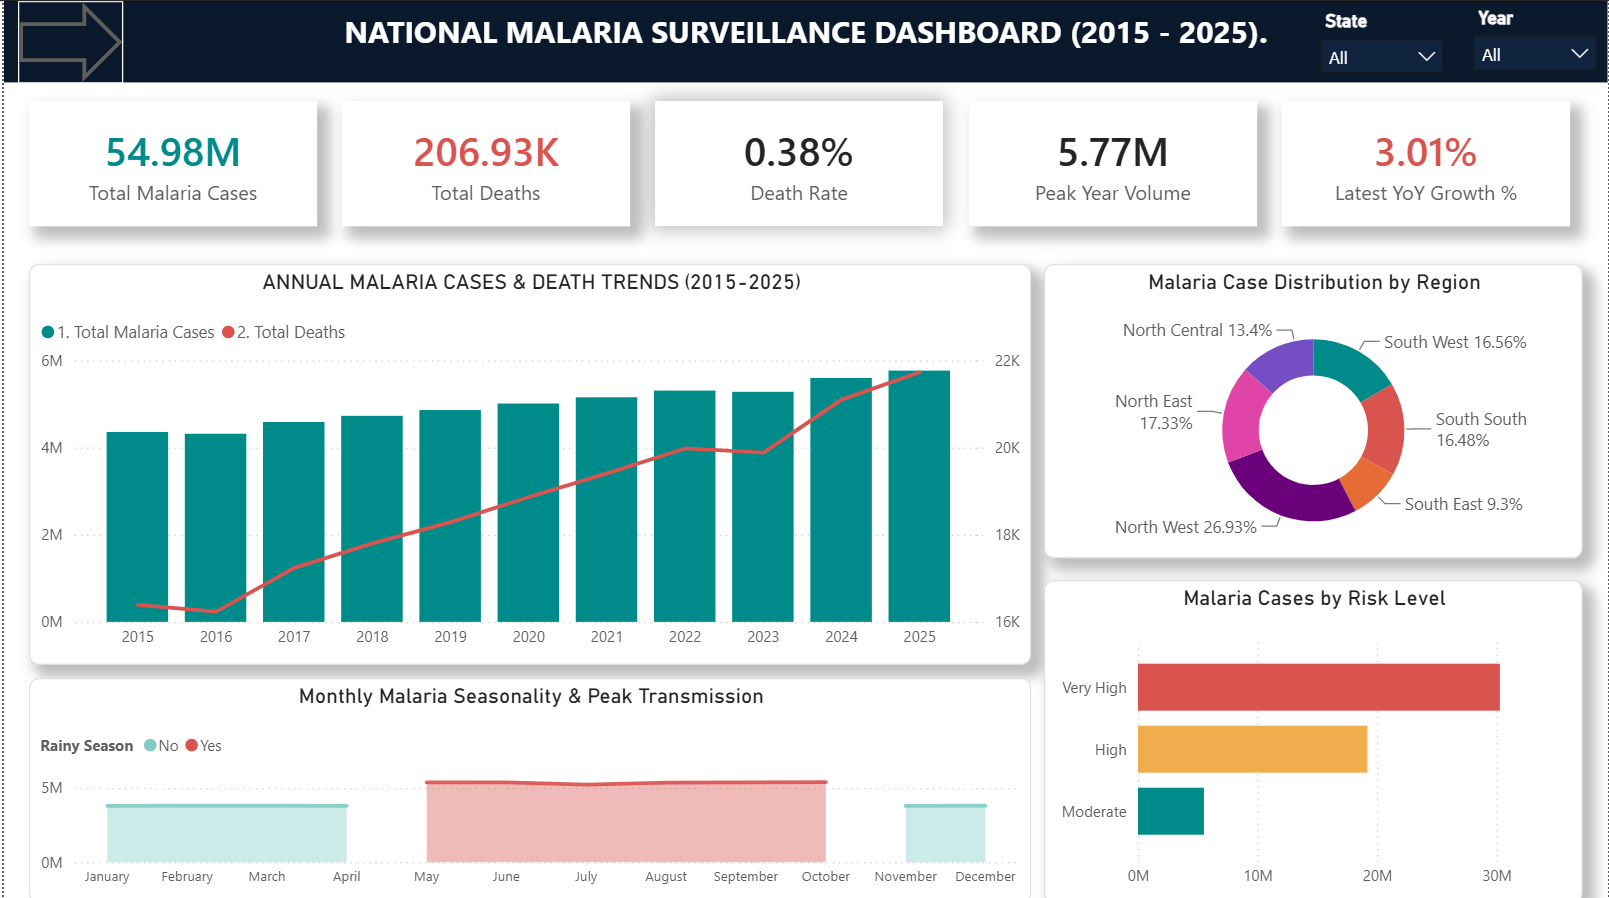

The dashboard page shown, as its layout file describes it:
{"tool":"powerbi","page":{"name":"Executive Summary","canvas":[1280,720],"ordinal":1},"visuals":[{"type":"shape","box":[0,0,1280,65],"z":0},{"type":"textbox","box":[0,2,1280,65],"z":1000},{"type":"slicer","fields":{"Values":["Dim_State.State"]},"box":[1041.9,2.3,116.5,62.7],"z":2000},{"type":"cardVisual","fields":{"Data":["Fact_Malaria.1. Total Malaria Cases"]},"box":[20,80,230,100],"z":3000},{"type":"cardVisual","fields":{"Data":["Fact_Malaria.2. Total Deaths"]},"box":[270,80,230,100],"z":4000},{"type":"cardVisual","fields":{"Data":["Fact_Malaria.4. Death Rate"]},"box":[520,80,230,100],"z":5000},{"type":"cardVisual","fields":{"Data":["Fact_Malaria.7. Peak Year Volume"]},"box":[770,80,230,100],"z":6000},{"type":"cardVisual","fields":{"Data":["Time Intelligence.Latest Year YoY Growth %"]},"box":[1020,80,230,100],"z":7000},{"type":"slicer","fields":{"Values":["Dim_Calendar.Year"]},"box":[1163.5,0,116.5,62.7],"z":8000},{"type":"lineClusteredColumnComboChart","title":"ANNUAL MALARIA CASES & DEATH TRENDS (2015-2025)","fields":{"Category":["Dim_Calendar.Year"],"Y":["Fact_Malaria.1. Total Malaria Cases"],"Y2":["Fact_Malaria.2. Total Deaths"]},"box":[20,210,800,320],"z":9000},{"type":"donutChart","title":"Malaria Case Distribution by Region","fields":{"Category":["Dim_State.Region"],"Y":["Fact_Malaria.1. Total Malaria Cases"]},"box":[830,210,430,235.5],"z":10000},{"type":"stackedAreaChart","title":"Monthly Malaria Seasonality & Peak Transmission","fields":{"Category":["Dim_Calendar.Month"],"Series":["Dim_Calendar.Rainy Season"],"Y":["Fact_Malaria.1. Total Malaria Cases"]},"box":[20,540,800,180],"z":11000},{"type":"barChart","title":"Malaria Cases by Risk Level","fields":{"Category":["Fact_Malaria.Risk Level"],"Y":["Fact_Malaria.1. Total Malaria Cases"]},"box":[830,461.8,430,258.2],"z":12000},{"type":"actionButton","box":[11.2,0,84.3,65.7],"z":13000}]}

Visuals, with their boxes in screenshot pixels (x1, y1, x2, y2), scaled from the page's 1280x720 canvas onto the 1609x898 screenshot:
shape: bbox=(0, 0, 1608, 81)
textbox: bbox=(0, 2, 1608, 84)
slicer - Dim_State.State: bbox=(1310, 3, 1456, 81)
cardVisual - Fact_Malaria.1. Total Malaria Cases: bbox=(25, 100, 314, 224)
cardVisual - Fact_Malaria.2. Total Deaths: bbox=(339, 100, 629, 224)
cardVisual - Fact_Malaria.4. Death Rate: bbox=(654, 100, 943, 224)
cardVisual - Fact_Malaria.7. Peak Year Volume: bbox=(968, 100, 1257, 224)
cardVisual - Time Intelligence.Latest Year YoY Growth %: bbox=(1282, 100, 1571, 224)
slicer - Dim_Calendar.Year: bbox=(1463, 0, 1608, 78)
"ANNUAL MALARIA CASES & DEATH TRENDS (2015-2025)" lineClusteredColumnComboChart: bbox=(25, 262, 1031, 661)
"Malaria Case Distribution by Region" donutChart: bbox=(1043, 262, 1584, 556)
"Monthly Malaria Seasonality & Peak Transmission" stackedAreaChart: bbox=(25, 674, 1031, 897)
"Malaria Cases by Risk Level" barChart: bbox=(1043, 576, 1584, 897)
actionButton: bbox=(14, 0, 120, 82)
